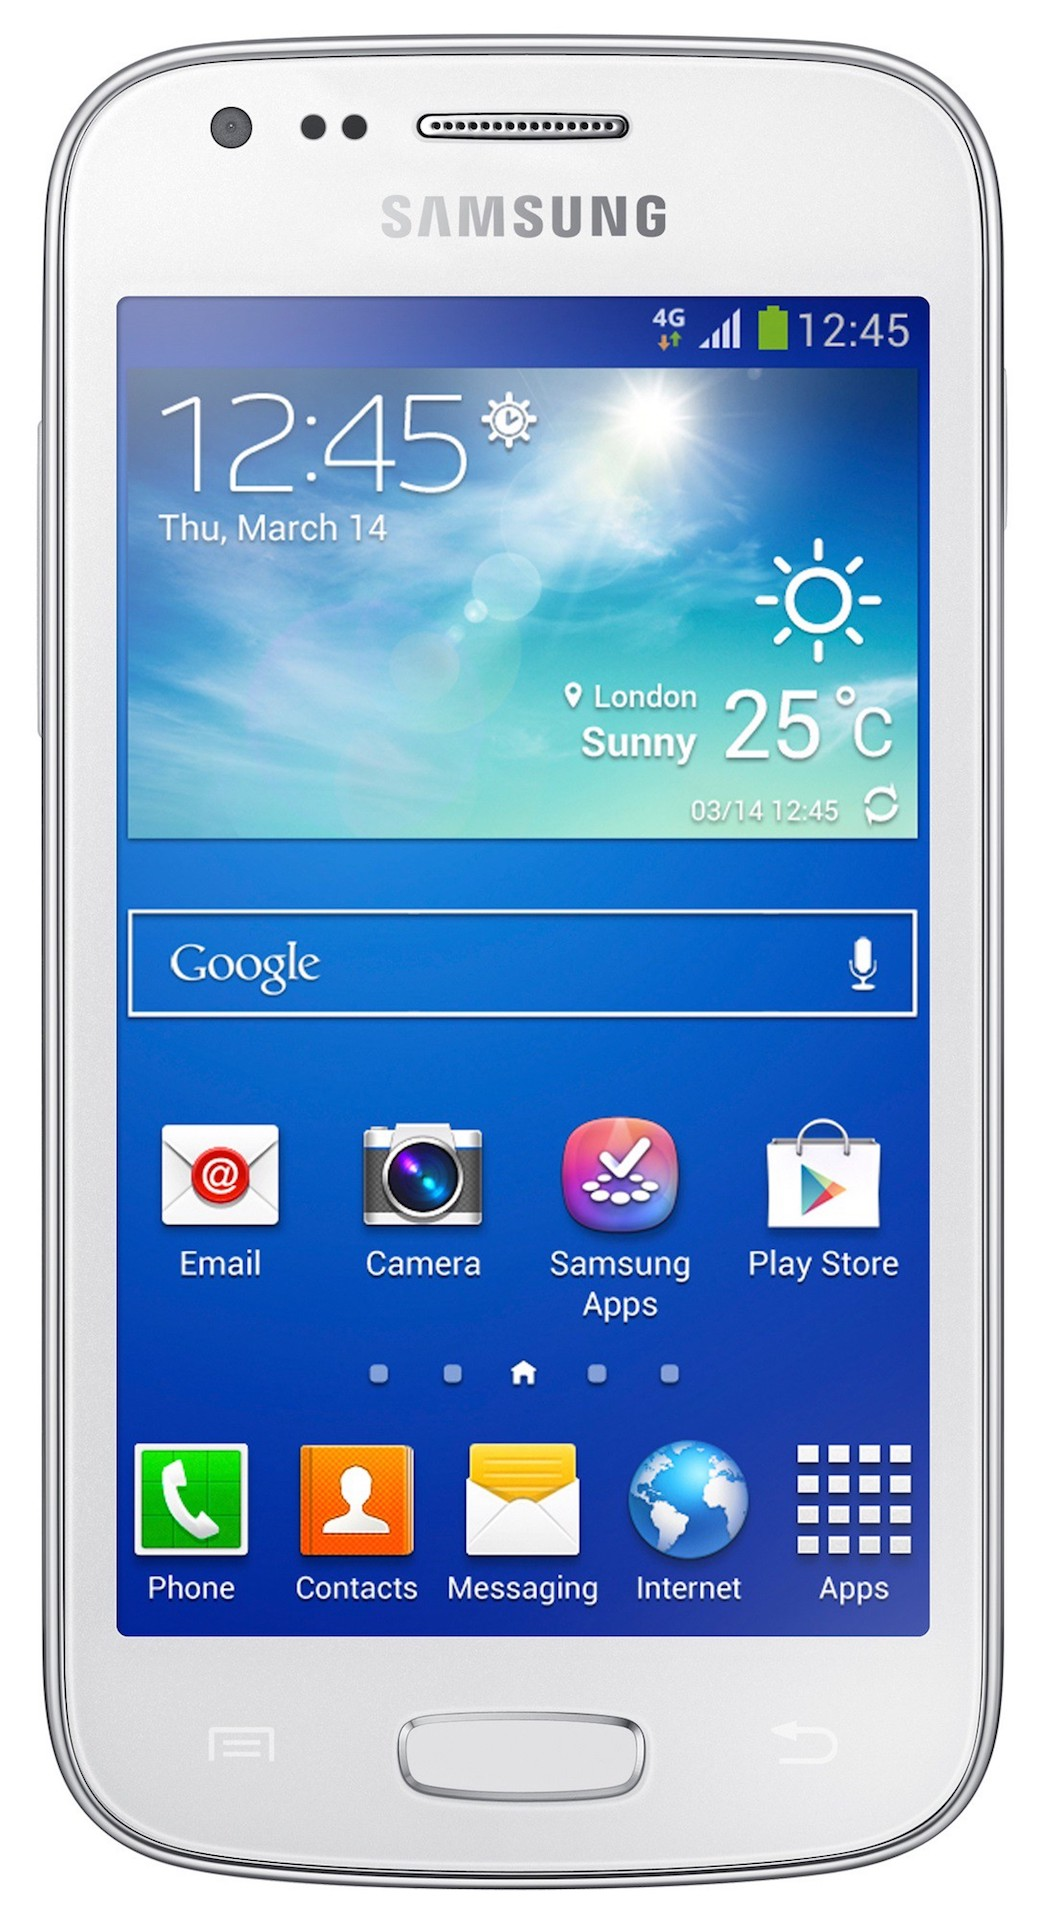smartphone: (36, 33, 1011, 1897)
